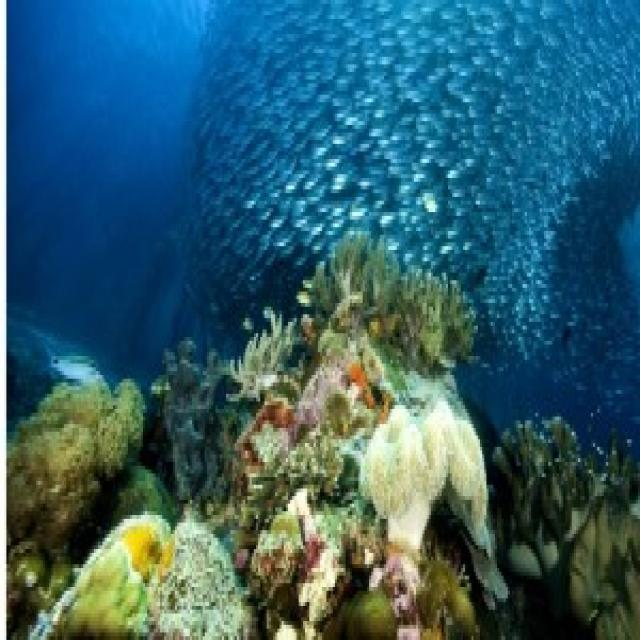Bleached: (73, 516, 254, 640), (355, 396, 484, 542), (1, 390, 146, 494), (240, 323, 287, 399)
Healthy: (503, 450, 637, 627), (307, 239, 478, 357), (167, 339, 235, 515), (1, 505, 75, 584), (421, 548, 476, 635), (87, 569, 137, 640)
